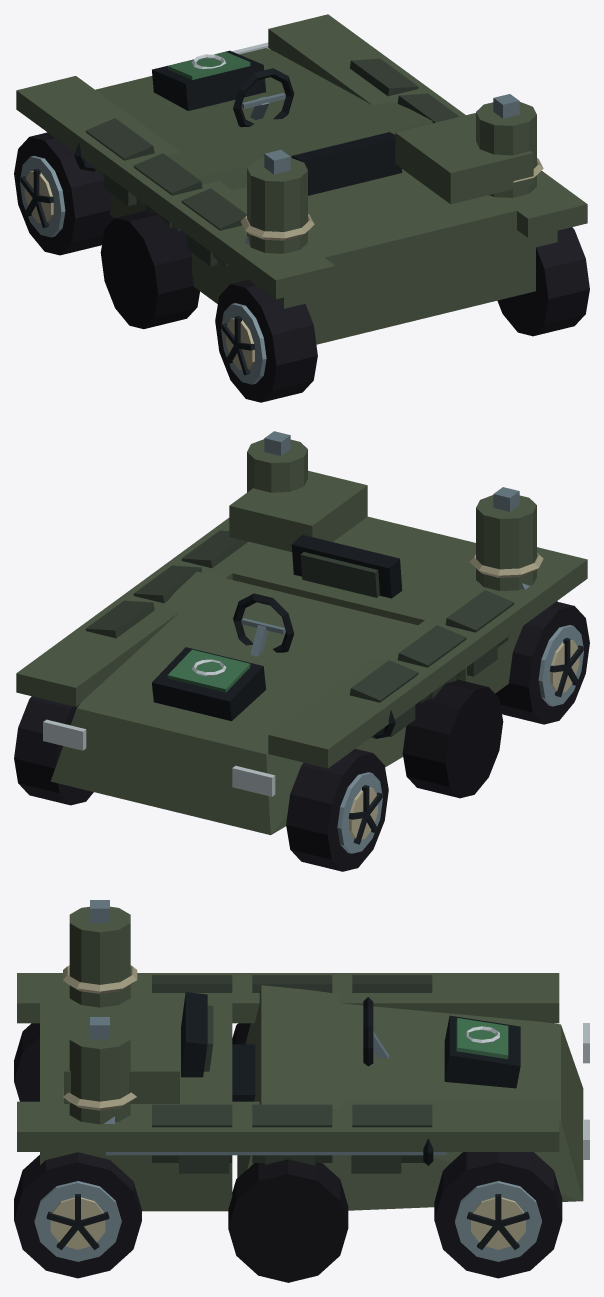
The model's file is kart.glb.
3 renders of one model, top to bottom at view 1: azimuth 30°, elevation 25°; view 2: azimuth 150°, elevation 25°; view 3: azimuth 270°, elevation 25°, orthographic. The views are drawn at different scales.
Parts seen in each view (by area): view 1: identity-apc-apc-armored-hull, identity-apc-motif-tanks, wheel-rear-left, wheel-front-left, identity-apc-motif-armor, wheel-rear-right, identity-apc-driver-cockpit, identity-apc-motif-scanner; view 2: identity-apc-apc-armored-hull, wheel-front-left, identity-apc-motif-tanks, identity-apc-motif-armor, wheel-rear-left, identity-apc-driver-cockpit, identity-apc-motif-scanner, wheel-front-right; view 3: identity-apc-apc-armored-hull, wheel-front-right, wheel-rear-right, identity-apc-motif-tanks, identity-apc-motif-armor, identity-apc-motif-scanner, identity-apc-driver-cockpit, wheel-rear-left, identity-apc-motif-pipes.
Part boxes in pixels (x1=…): identity-apc-apc-armored-hull: x1=16, y1=14, x2=587, y2=344; identity-apc-motif-tanks: x1=240, y1=94, x2=543, y2=253; wheel-rear-left: x1=215, y1=279, x2=317, y2=402; wheel-front-left: x1=14, y1=132, x2=114, y2=255; identity-apc-motif-armor: x1=85, y1=58, x2=459, y2=266; wheel-rear-right: x1=497, y1=227, x2=589, y2=336; identity-apc-driver-cockpit: x1=233, y1=68, x2=402, y2=195; identity-apc-motif-scanner: x1=152, y1=50, x2=265, y2=110; identity-apc-apc-armored-hull: x1=16, y1=470, x2=587, y2=835; wheel-front-left: x1=286, y1=749, x2=388, y2=871; identity-apc-motif-tanks: x1=247, y1=431, x2=543, y2=590; identity-apc-motif-armor: x1=85, y1=530, x2=514, y2=738; wheel-rear-left: x1=495, y1=601, x2=589, y2=724; identity-apc-driver-cockpit: x1=233, y1=534, x2=402, y2=656; identity-apc-motif-scanner: x1=152, y1=647, x2=265, y2=721; wheel-front-right: x1=14, y1=696, x2=93, y2=805; identity-apc-apc-armored-hull: x1=17, y1=973, x2=589, y2=1282; wheel-front-right: x1=434, y1=1152, x2=562, y2=1278; wheel-rear-right: x1=14, y1=1152, x2=141, y2=1278; identity-apc-motif-tanks: x1=63, y1=900, x2=137, y2=1124; identity-apc-motif-armor: x1=152, y1=975, x2=432, y2=1162; identity-apc-motif-scanner: x1=444, y1=1015, x2=520, y2=1088; identity-apc-driver-cockpit: x1=181, y1=992, x2=388, y2=1101; wheel-rear-left: x1=14, y1=1023, x2=39, y2=1101; identity-apc-motif-pipes: x1=104, y1=1116, x2=446, y2=1165.
Size of the model in its own units: 2.08 by 1.3 by 2.88.
